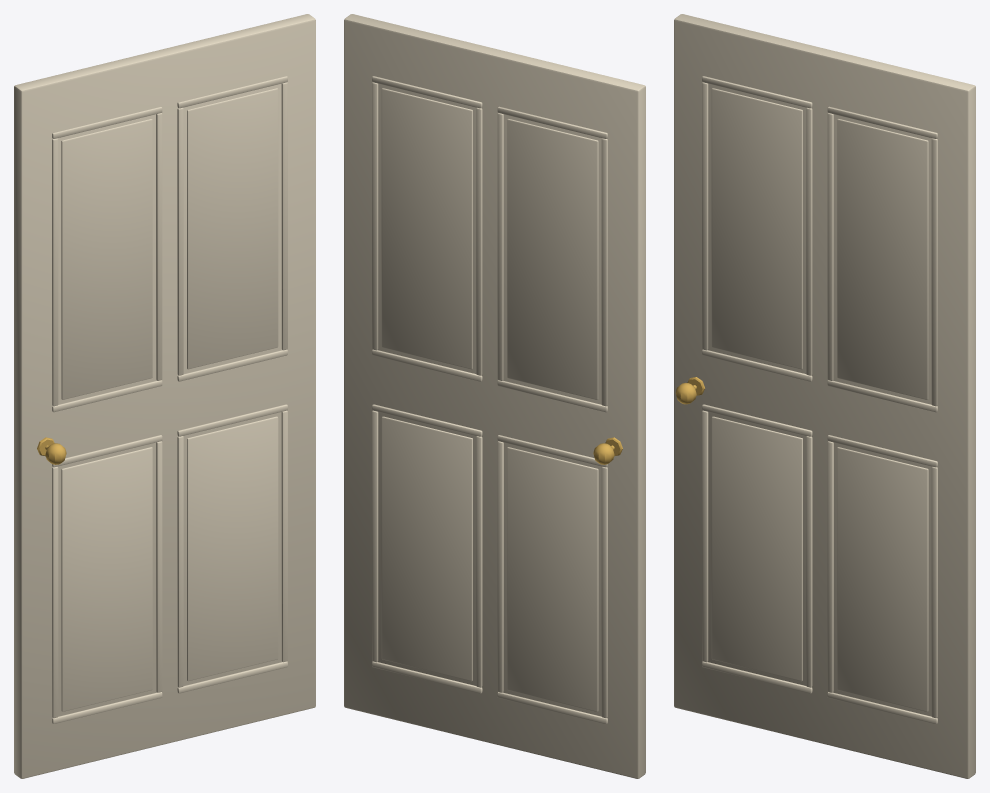
File: mae_panel_door.glb
The picture shows the model from 3 angles, left to right: view 1: azimuth 30°, elevation 25°; view 2: azimuth 150°, elevation 25°; view 3: azimuth 330°, elevation 25°; orthographic projection.
Parts seen in each view (by area): view 1: mae_panel_door; view 2: mae_panel_door; view 3: mae_panel_door.
Part boxes in pixels (bbox=[...]): mae_panel_door: bbox=[14, 14, 315, 778]; mae_panel_door: bbox=[344, 14, 645, 778]; mae_panel_door: bbox=[674, 14, 975, 778].
Bounding box in the file's own units: 0.942 × 2.1 × 0.225.
